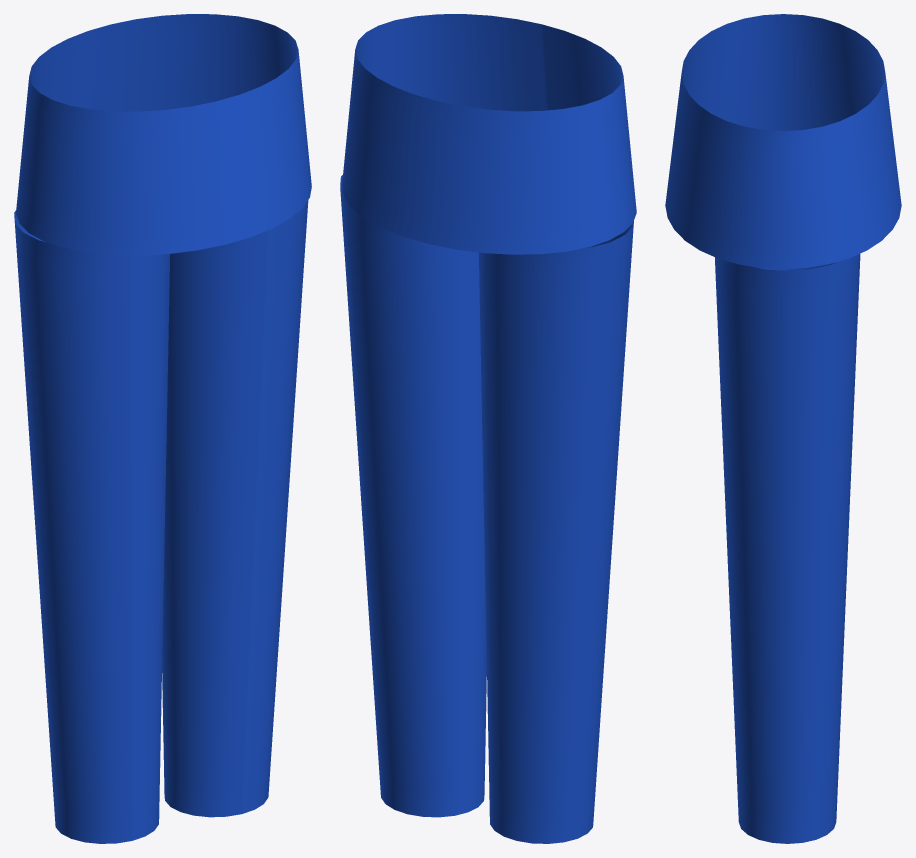
Rendered from trouser_jeans.glb.
The picture shows the model from 3 angles, left to right: view 1: azimuth 30°, elevation 25°; view 2: azimuth 150°, elevation 25°; view 3: azimuth 270°, elevation 25°; orthographic projection. The views are drawn at different scales.
Visible parts, largest first — view 1: Trouser_Jeans_Mesh; view 2: Trouser_Jeans_Mesh; view 3: Trouser_Jeans_Mesh.
Part boxes in pixels (<box>): Trouser_Jeans_Mesh: <box>14,14,311,843</box>; Trouser_Jeans_Mesh: <box>340,14,636,843</box>; Trouser_Jeans_Mesh: <box>665,14,901,843</box>.
Size of the model in its own units: 0.38 by 0.98 by 0.29.
